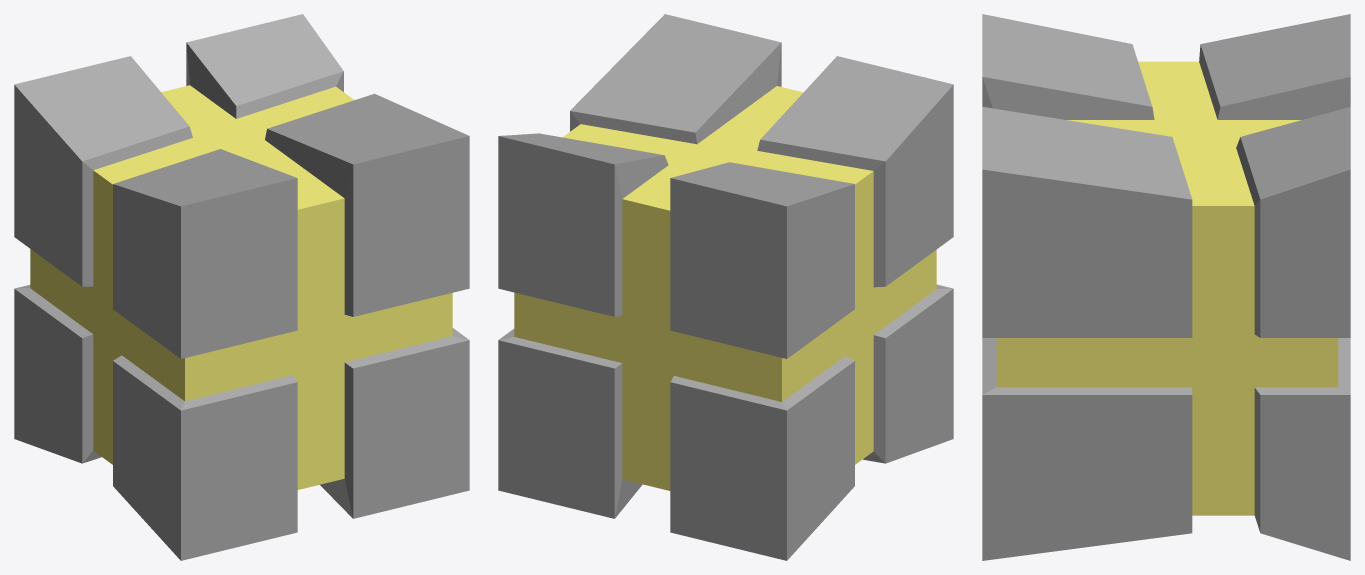
The model's file is TestEmissive.fbx.
The picture shows the model from 3 angles, left to right: view 1: azimuth 30°, elevation 25°; view 2: azimuth 150°, elevation 25°; view 3: azimuth 270°, elevation 25°; orthographic projection. The views are drawn at different scales.
Visible parts, largest first — view 1: Cube, Cube.001; view 2: Cube, Cube.001; view 3: Cube, Cube.001.
Boxes of the visible parts, <box> form: Cube: <box>14,14,469,560</box>; Cube.001: <box>30,85,452,489</box>; Cube: <box>498,14,953,560</box>; Cube.001: <box>514,86,936,490</box>; Cube: <box>982,14,1350,560</box>; Cube.001: <box>996,61,1338,515</box>.
Bounding box in the file's own units: 200 × 235 × 200.
